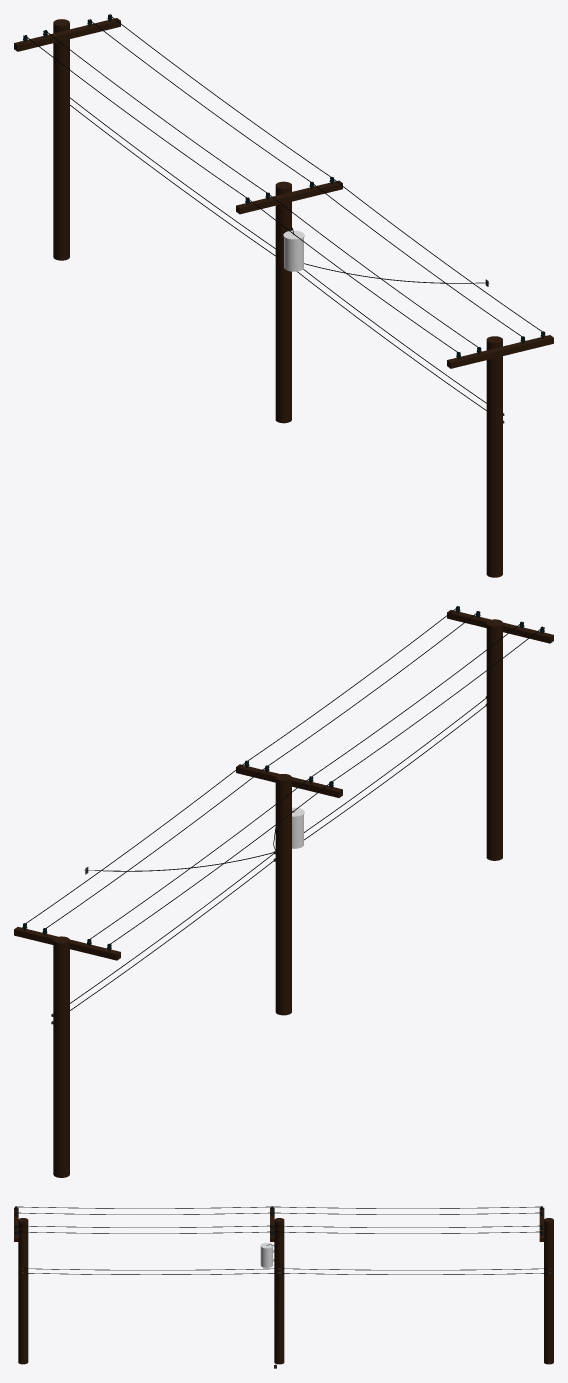
The model's file is Pole.fbx.
3 views of the same model, one above another, from view 1: azimuth 30°, elevation 25°; view 2: azimuth 150°, elevation 25°; view 3: azimuth 270°, elevation 25° (orthographic). The views are drawn at different scales.
Parts seen in each view (by area): view 1: polySurface147; view 2: polySurface147; view 3: polySurface147.
Part boxes in pixels (<box>): polySurface147: <box>14,14,553,577</box>; polySurface147: <box>14,606,553,1177</box>; polySurface147: <box>14,1206,553,1368</box>.
Size of the model in its own units: 7.99 by 7.09 by 24.22.
